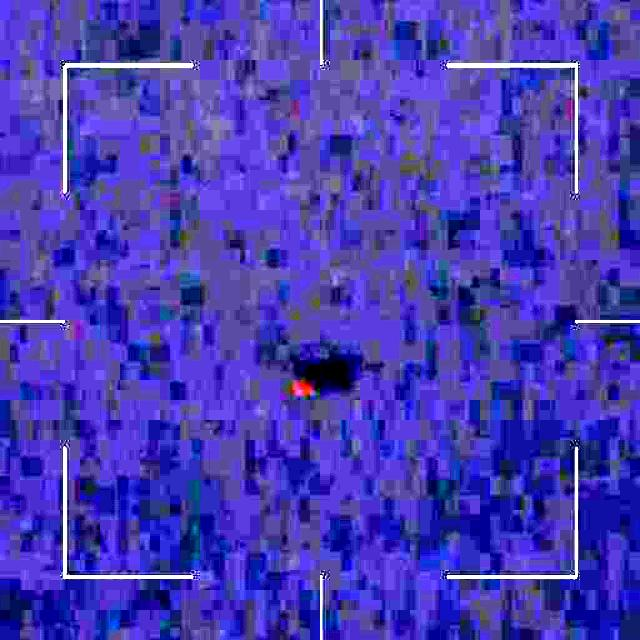bird: (285, 366, 315, 409)
